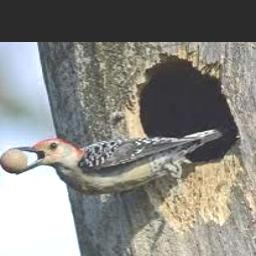Woodpecker: (9, 128, 223, 195)
